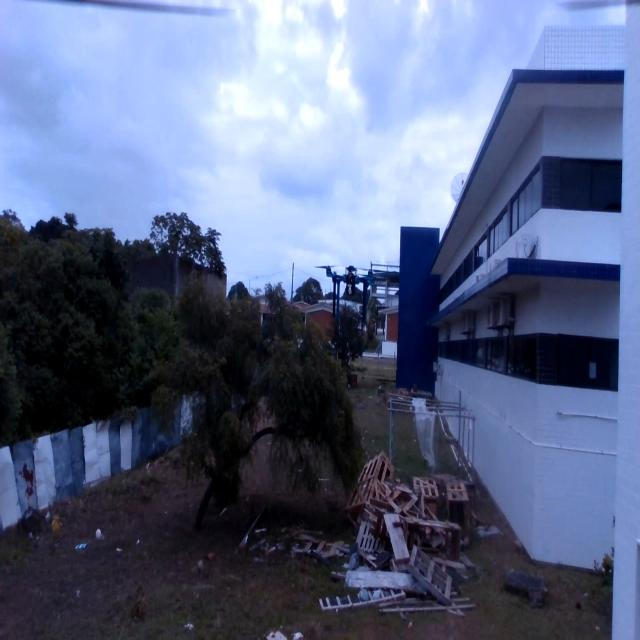-uav-: (307, 250, 395, 341)
